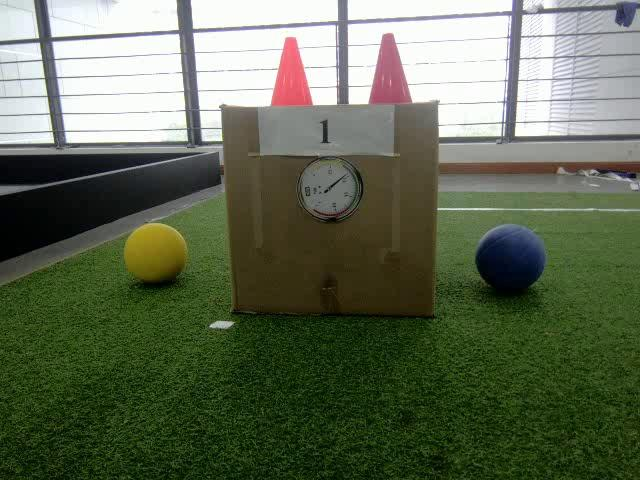1: (319, 119, 330, 143)
Dashboard: (297, 156, 364, 224)
blue_ball: (475, 226, 546, 291)
orange_barrel: (270, 36, 313, 106)
red_barrel: (368, 32, 413, 104)
ssi: (304, 186, 312, 197)
yellow_ball: (122, 222, 188, 284)
